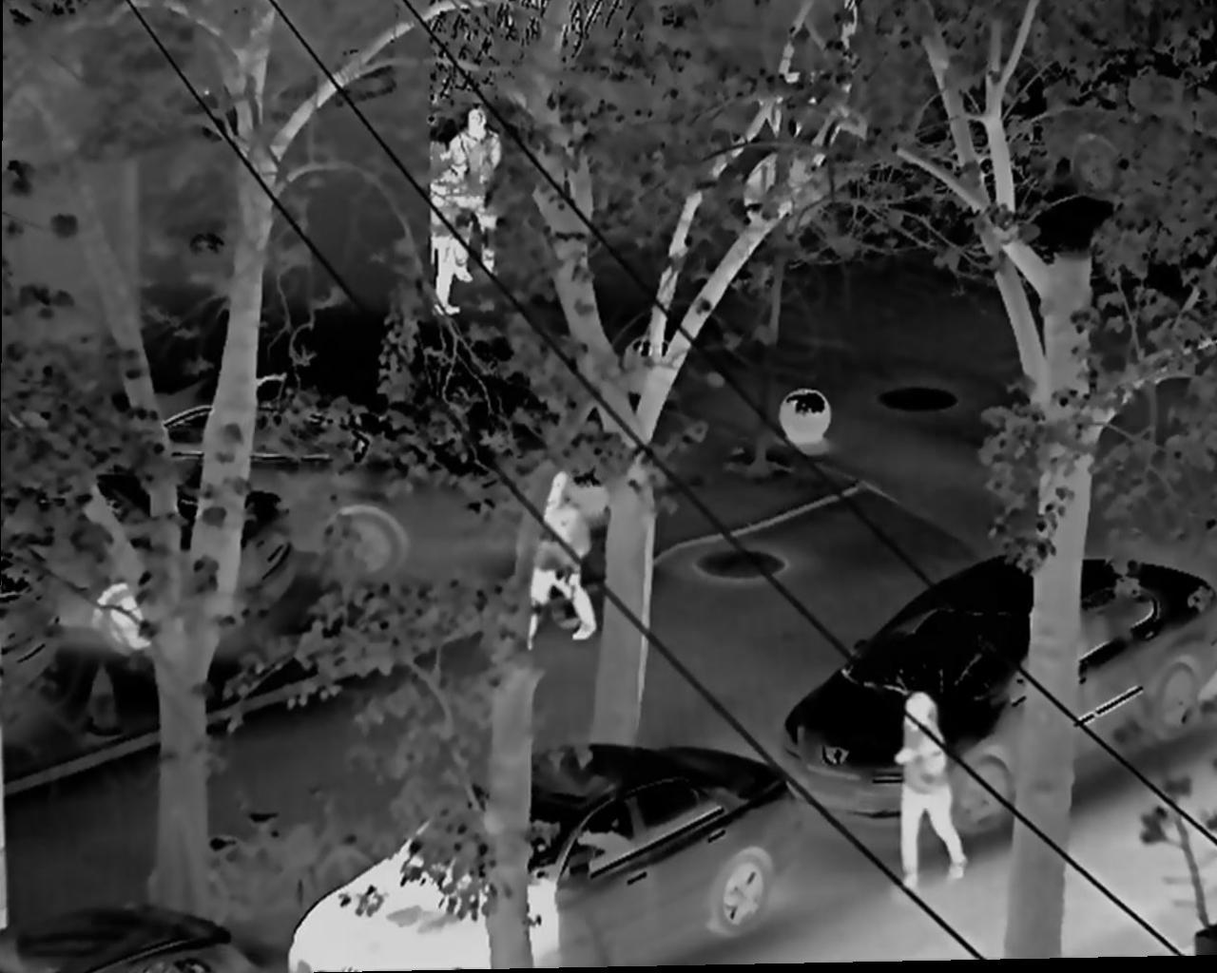person: (894, 690, 968, 894), (528, 472, 593, 643), (451, 102, 496, 281), (428, 152, 462, 315)
